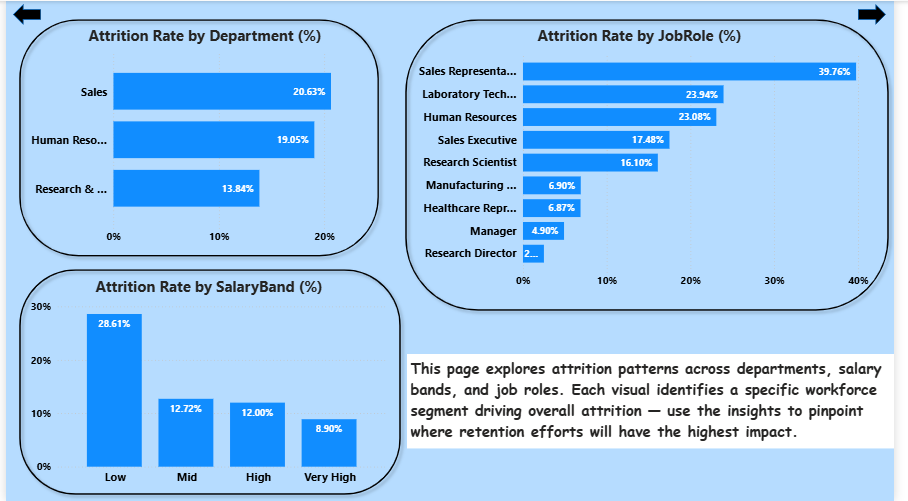

What the dashboard file says about the page in this screenshot:
{"tool":"powerbi","page":{"name":"Attrition Analysis ","canvas":[1280,720],"ordinal":1},"visuals":[{"type":"shape","box":[565.9,17.3,714.2,437.8],"z":0},{"type":"shape","box":[10.1,377.3,567.4,342.7],"z":1000},{"type":"shape","box":[10.1,16.8,535.9,359.5],"z":2000},{"type":"clusteredBarChart","title":"Attrition Rate by Department (%)","fields":{"Y":["ibm_hr_cleaned.Attrition Rate"],"Category":["ibm_hr_cleaned.Department"]},"box":[18.7,34.6,535.7,325.4],"z":3000},{"type":"clusteredColumnChart","title":"Attrition Rate by SalaryBand (%)","fields":{"Category":["ibm_hr_cleaned.SalaryBand"],"Y":["ibm_hr_cleaned.Attrition Rate"]},"box":[30.2,396,524.2,309.6],"z":4000},{"type":"clusteredBarChart","title":"Attrition Rate by JobRole (%)","fields":{"Y":["ibm_hr_cleaned.Attrition Rate"],"Category":["ibm_hr_cleaned.JobRole"]},"box":[577.4,34.6,669.6,388.8],"z":5000},{"type":"textbox","box":[577.8,509,702.2,136.1],"z":6000},{"type":"shape","box":[1226.9,4.3,40.3,30.2],"z":7000},{"type":"shape","box":[10.1,4.3,40.3,30.2],"z":8000}]}

Visuals, with their boxes in screenshot pixels (x1, y1, x2, y2), scaled from the page's 1280x720 canvas onto the 908x501 screenshot:
shape: bbox=[401, 12, 907, 317]
shape: bbox=[7, 263, 410, 500]
shape: bbox=[7, 12, 387, 262]
"Attrition Rate by Department (%)" clusteredBarChart: bbox=[13, 24, 393, 250]
"Attrition Rate by SalaryBand (%)" clusteredColumnChart: bbox=[21, 276, 393, 491]
"Attrition Rate by JobRole (%)" clusteredBarChart: bbox=[410, 24, 885, 295]
textbox: bbox=[410, 354, 907, 449]
shape: bbox=[870, 3, 899, 24]
shape: bbox=[7, 3, 36, 24]
